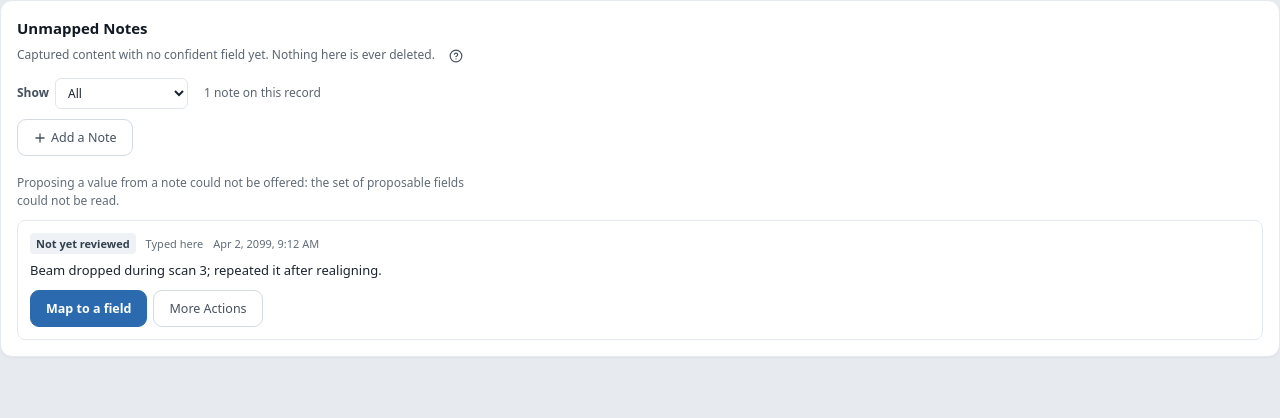
it: keep as note › is offered as a peer of the other three actions, not as a fallback
Expected: the text "Beam dropped during scan 3; repeated it after realigning." is shown, [30, 261, 382, 279]
Click the button "More Actions": (208, 309) [154, 290, 263, 327]
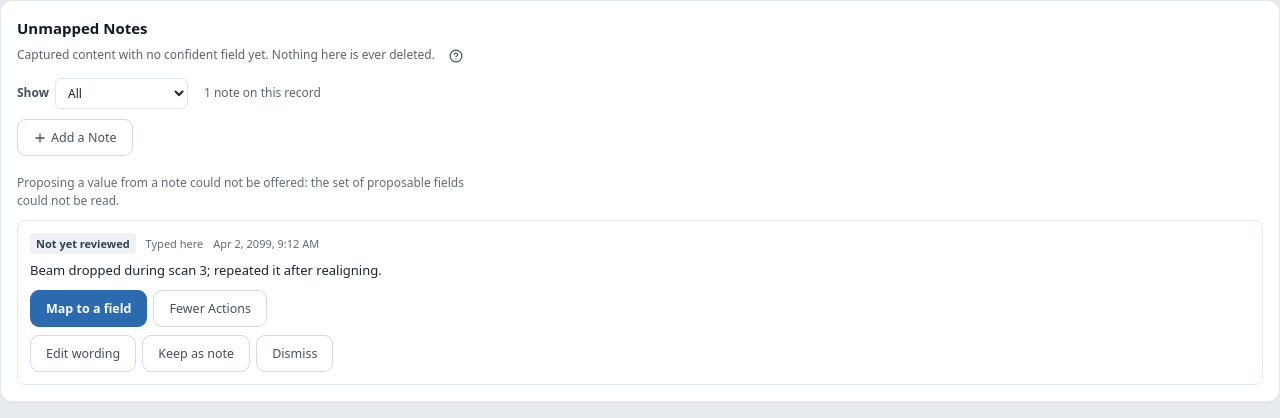
Result: the button "Edit wording" is shown at [30, 335, 136, 372]
Result: the button "Keep as note" is shown at [142, 335, 250, 372]
Result: the button "Dismiss" is shown at [256, 335, 333, 372]
